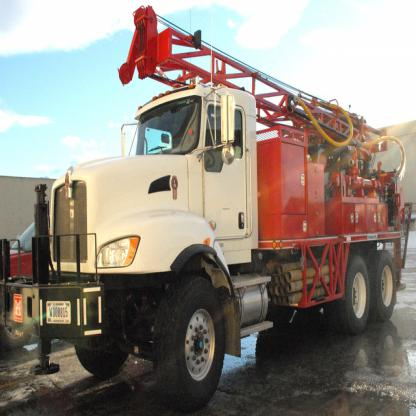Car: (0, 214, 51, 351)
Truck: (47, 6, 409, 405)
